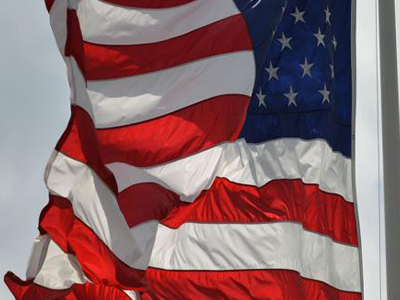America flag: (7, 2, 359, 300)
